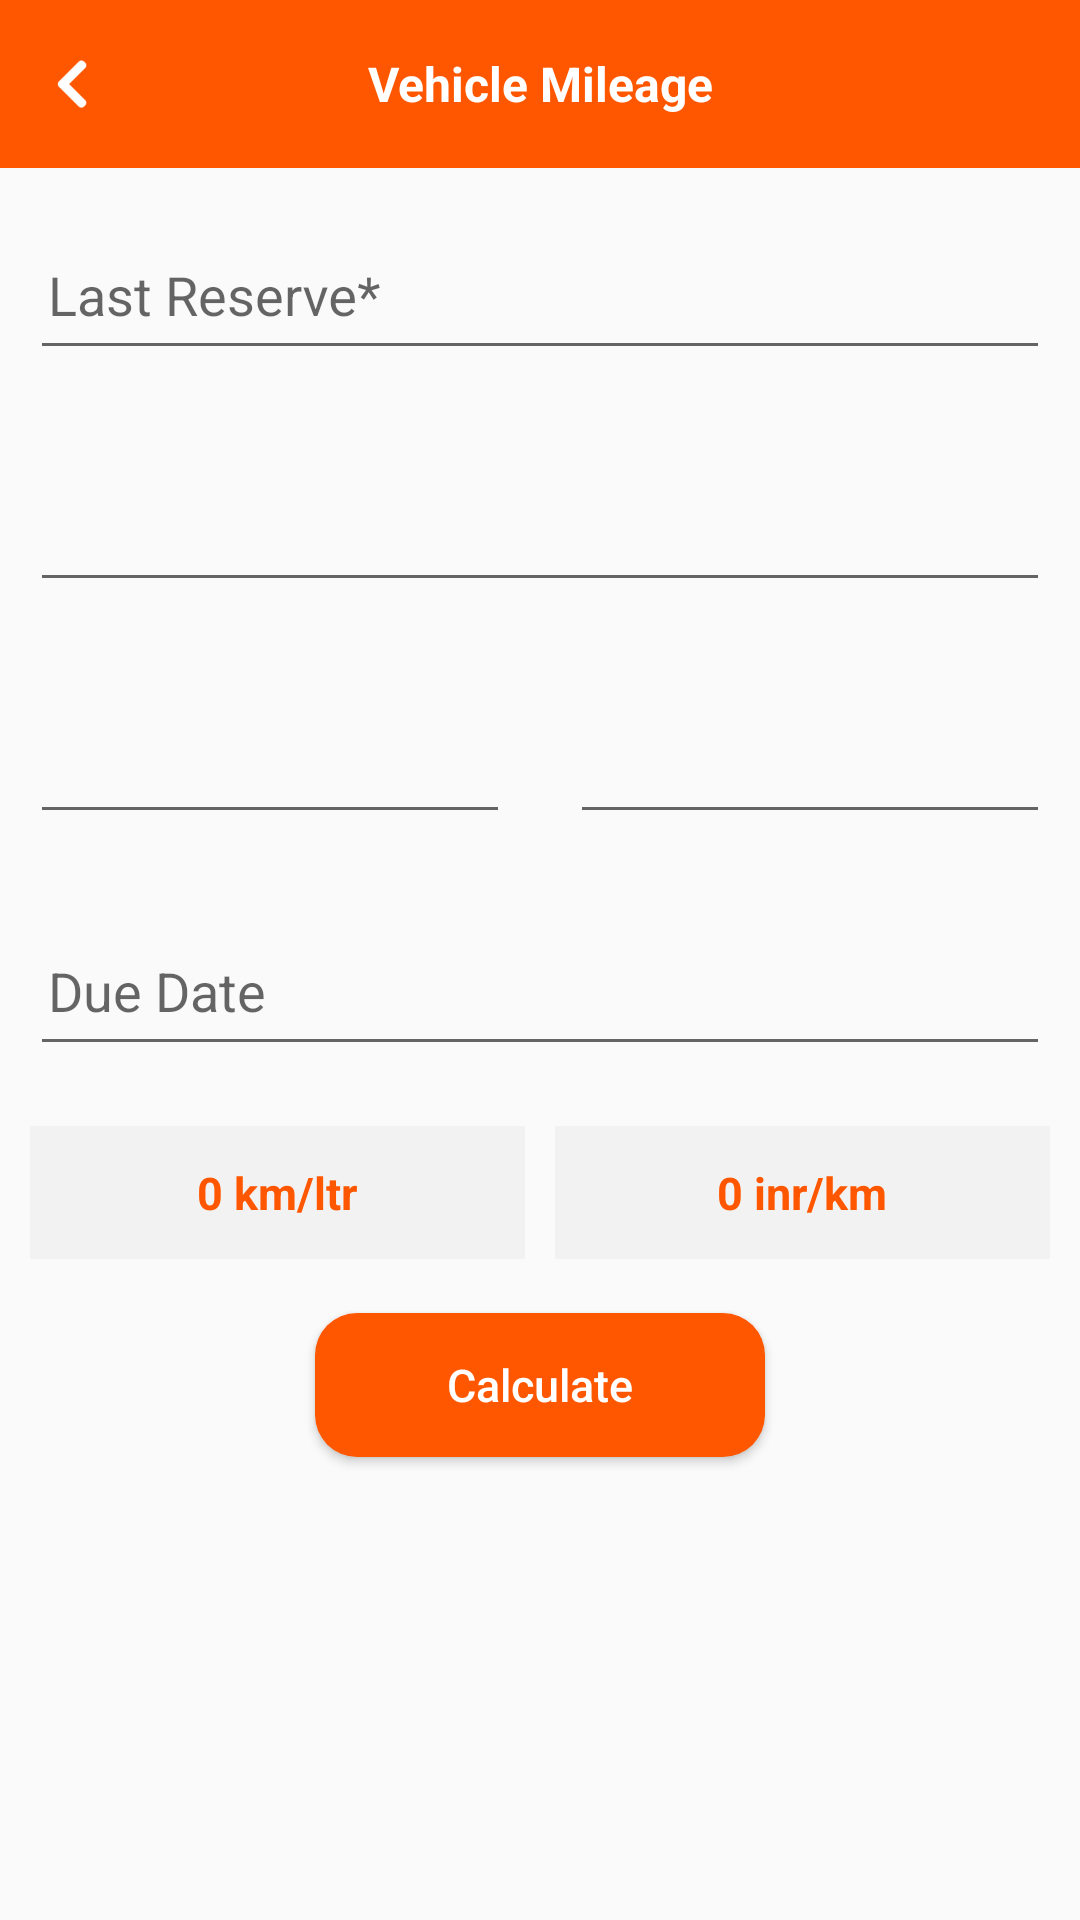

Where to tap for icons on this 1080x1920 app screen, as (x=x, y=y):
back: (x=72, y=84)
